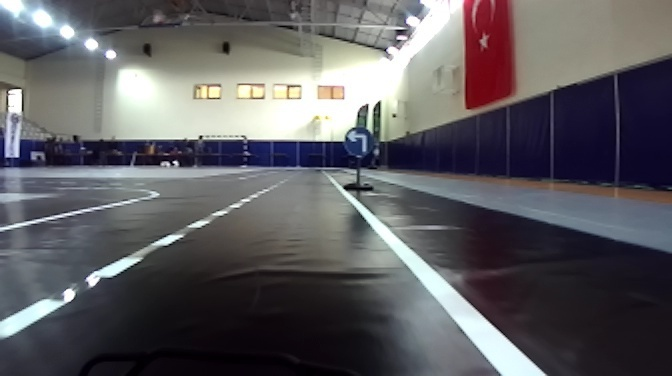sola_donus: (343, 121, 378, 163)
